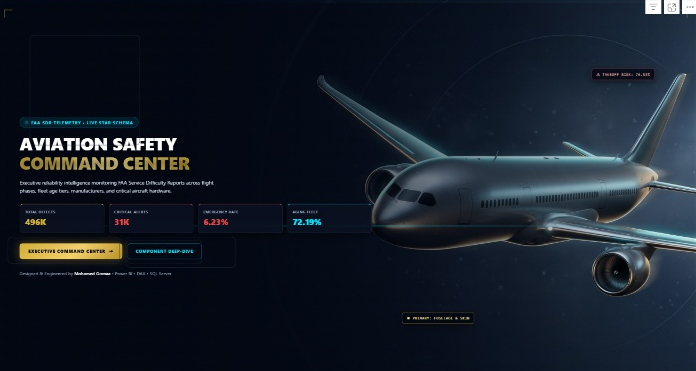

Layout of this report page (visuals, bound fields, positions):
{"tool":"powerbi","page":{"name":"Home","canvas":[1920,1080],"ordinal":0},"visuals":[{"type":"htmlContent443BE3AD55E043BF878BED274D3A6855","fields":{"content":["Measures_Table.Landing_Page_HUD"]},"box":[0,0,1920.4,1079.8],"z":0},{"type":"actionButton","box":[362,659.6,208.1,62.4],"z":1},{"type":"textbox","box":[100,100,300,300],"z":3},{"type":"actionButton","box":[362,649.2,299.6,83.2],"z":4},{"type":"actionButton","box":[39.5,649.2,303.8,72.8],"z":5}]}

Visuals, with their boxes on the page's 1920x1080 design canvas (x1, y1, x2, y2). These are canvas units, not pixel positions in the 696x371 screenshot, which may show the page scaled, cropped or inside an application window:
htmlContent443BE3AD55E043BF878BED274D3A6855 - Measures_Table.Landing_Page_HUD: region(0, 0, 1920, 1080)
actionButton: region(362, 660, 570, 722)
textbox: region(100, 100, 400, 400)
actionButton: region(362, 649, 662, 732)
actionButton: region(40, 649, 343, 722)
